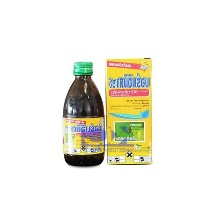carton: (103, 54, 155, 167)
insecticide: (60, 56, 107, 170)
